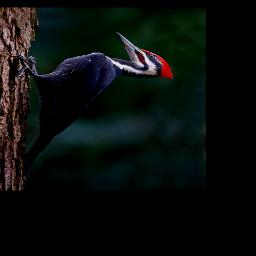Woodpecker: (8, 32, 173, 189)
